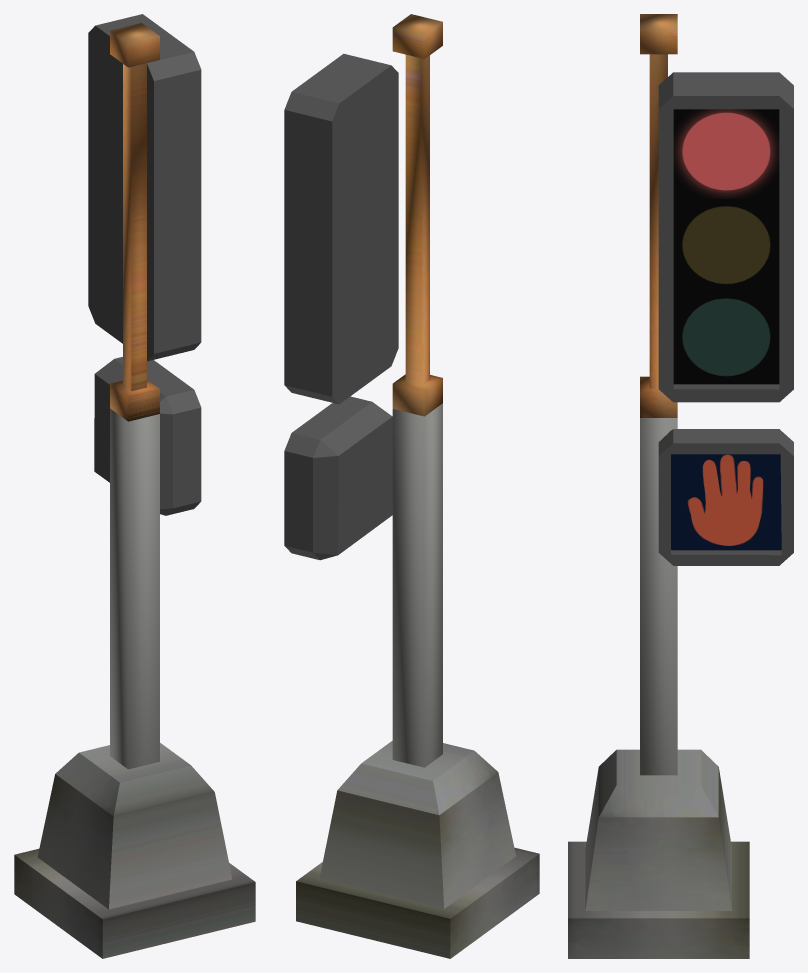
Rendered from stoplightSmall.fbx.
3 views of the same model, side by side, from view 1: azimuth 30°, elevation 25°; view 2: azimuth 150°, elevation 25°; view 3: azimuth 270°, elevation 25° (orthographic). The views are drawn at different scales.
Parts seen in each view (by area): view 1: base, stopLight, walkLight; view 2: base, stopLight, walkLight; view 3: base, stopLight, walkLight.
Boxes of the visible parts, x1,y1,x2,y2 form: base: [14, 23, 255, 958]; stopLight: [88, 14, 201, 361]; walkLight: [94, 357, 201, 515]; base: [296, 14, 539, 958]; stopLight: [284, 53, 398, 404]; walkLight: [284, 396, 392, 560]; base: [568, 14, 749, 958]; stopLight: [658, 72, 793, 402]; walkLight: [658, 429, 793, 565].
Bounding box in the file's own units: 161 × 880 × 200.
Materials: 4 (4 with a texture image).
